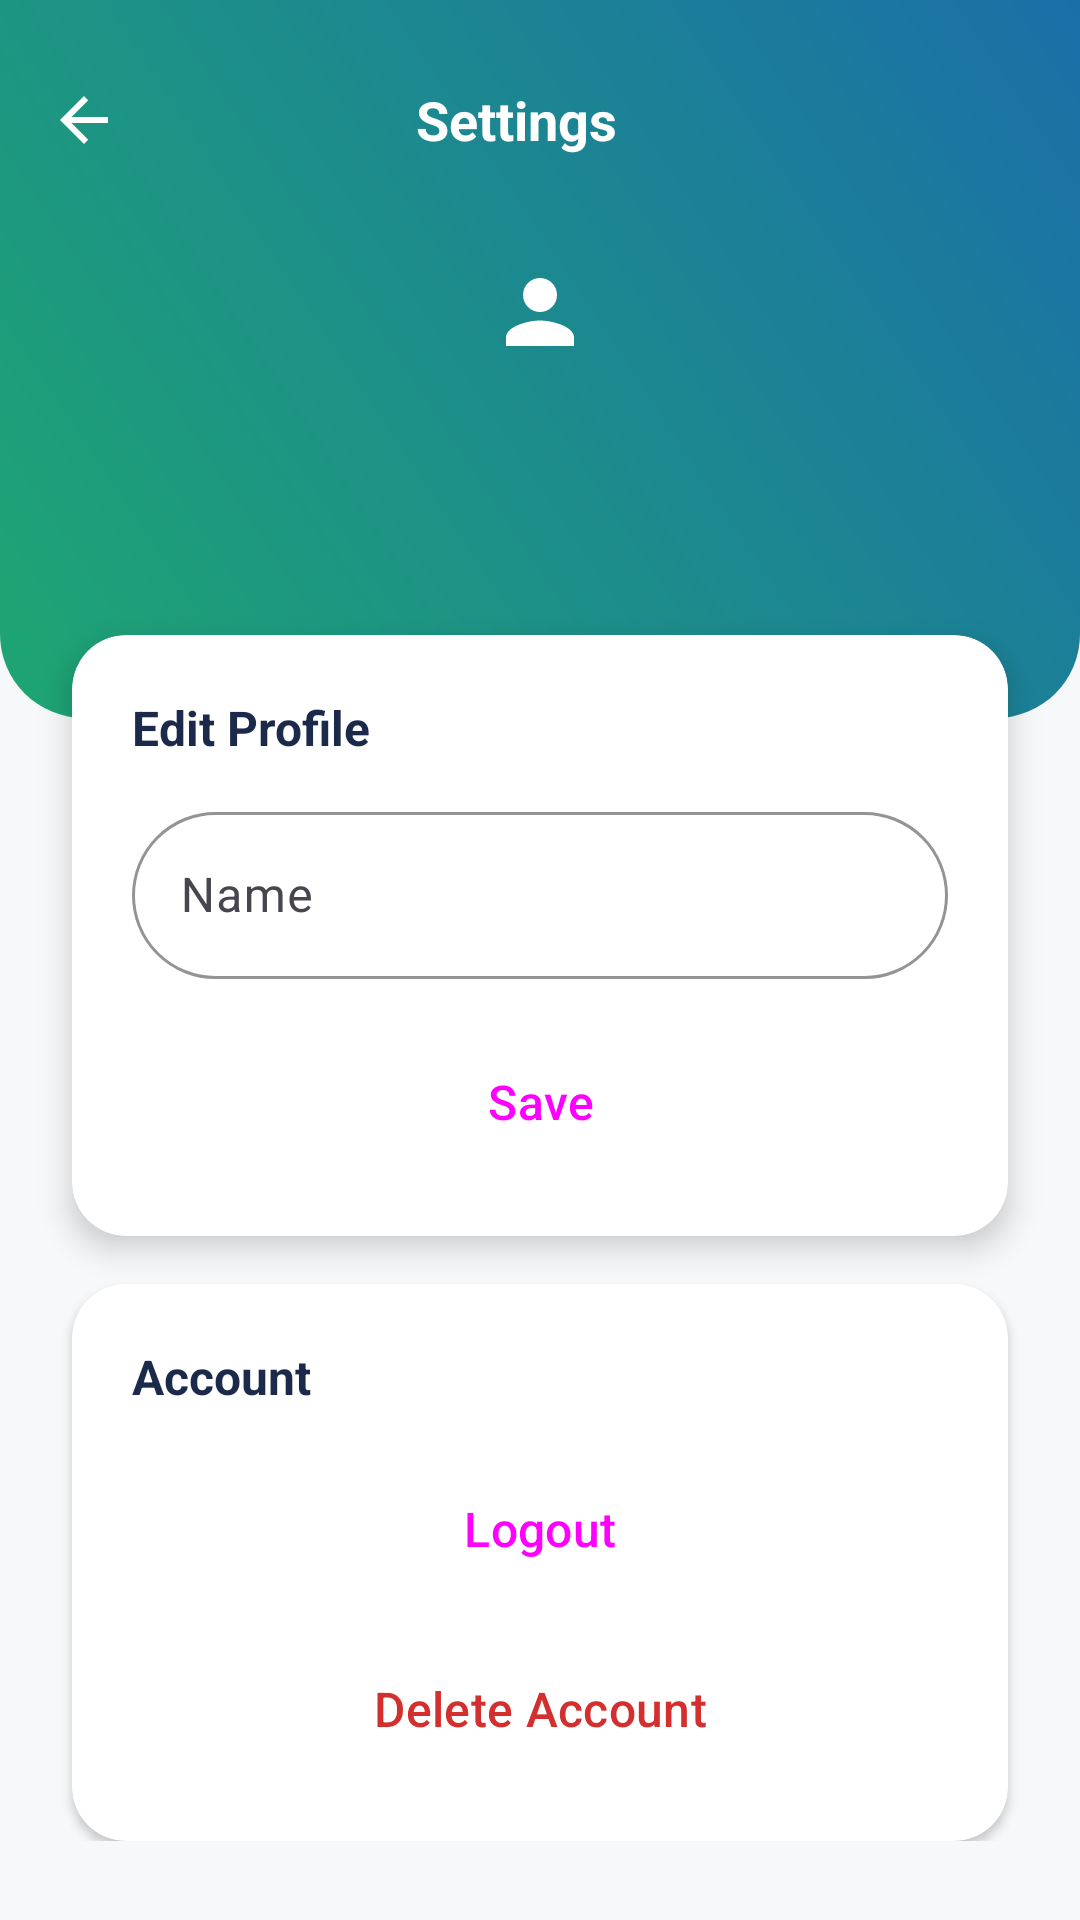

Icon bounding boxes for this 1080 x 1920 phone screenshot, format [x1=x1, y1=y1, x2=x2, y2=y2]:
Back: [x1=60, y1=96, x2=108, y2=144]
person: [x1=506, y1=278, x2=574, y2=346]
